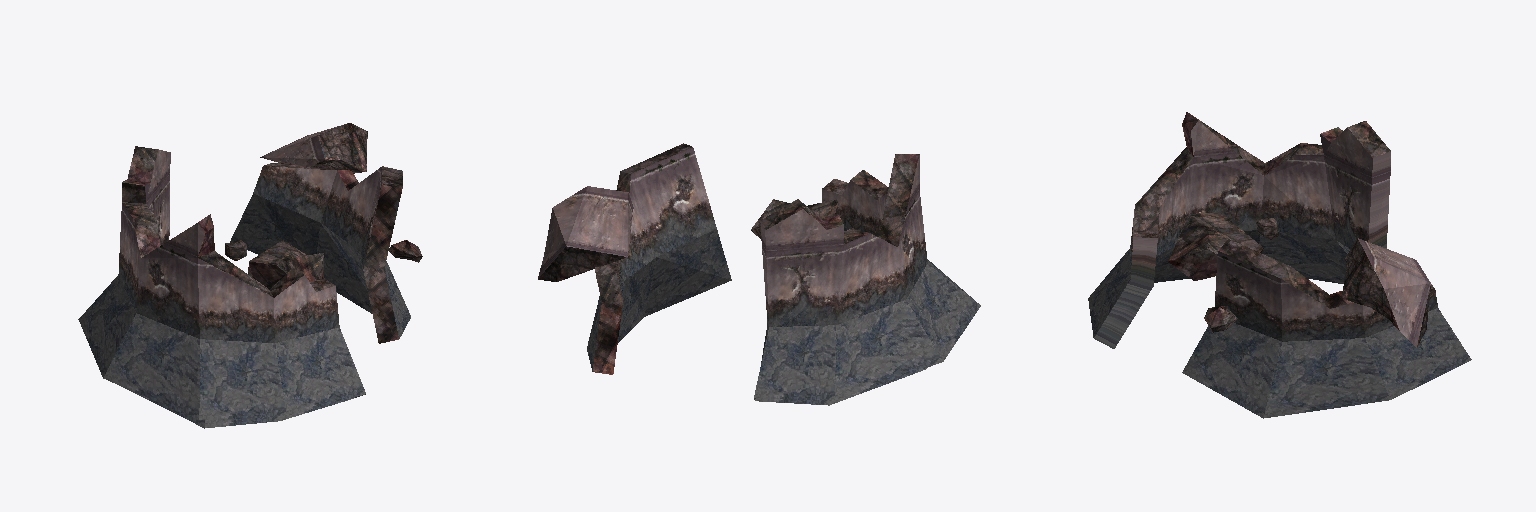
The picture shows the model from 3 angles: view 1: azimuth 30°, elevation 25°; view 2: azimuth 150°, elevation 25°; view 3: azimuth 270°, elevation 25°; orthographic projection.
Parts seen in each view (by area): view 1: Node 0; view 2: Node 0; view 3: Node 0.
Boxes of the visible parts, x1,y1,x2,y2 form: Node 0: [78, 123, 422, 428]; Node 0: [538, 143, 980, 405]; Node 0: [1088, 112, 1471, 418].
Bounding box in the file's own units: 15.03 × 8.53 × 15.22.
4 materials, 4 textured.